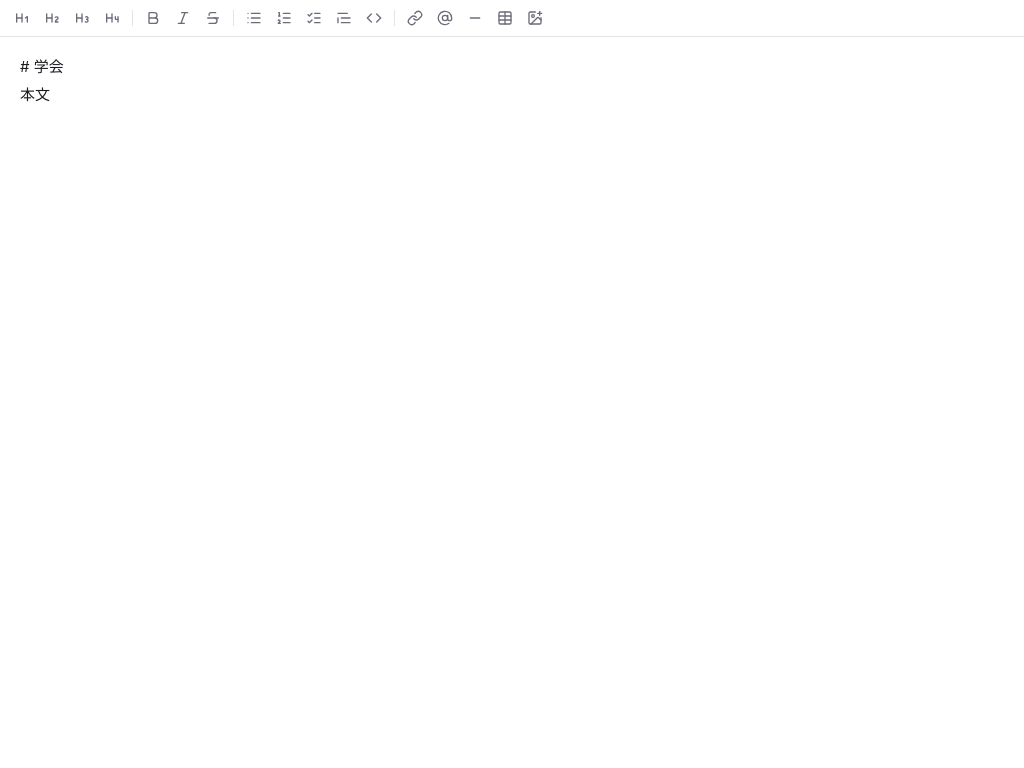
it: 「表」 in the canvas editor › opens a new 3 × 2 table; 「完了」 puts it after the caret's line (blank lines around it) as an edit like typing
Click the button named "表" at (505, 18), box [491,4,519,32]
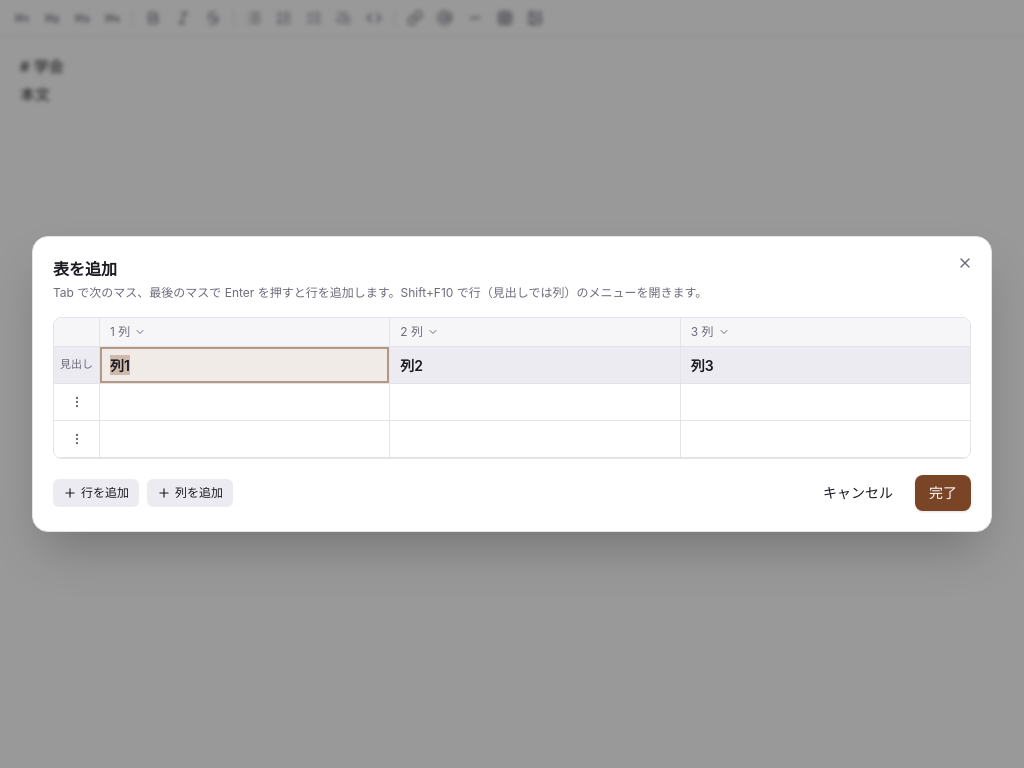
Expected: the field named "3 行目 3 列" is empty, [681,421,970,457]
Now the heading "表を追加" is shown, box [53,259,117,279]
Replace the text in the field named "見出し 1" with "名前" at (245, 365), box [100,347,389,383]
Replace the text in the field named "見出し 2" with "締切" at (535, 365), box [390,347,680,383]
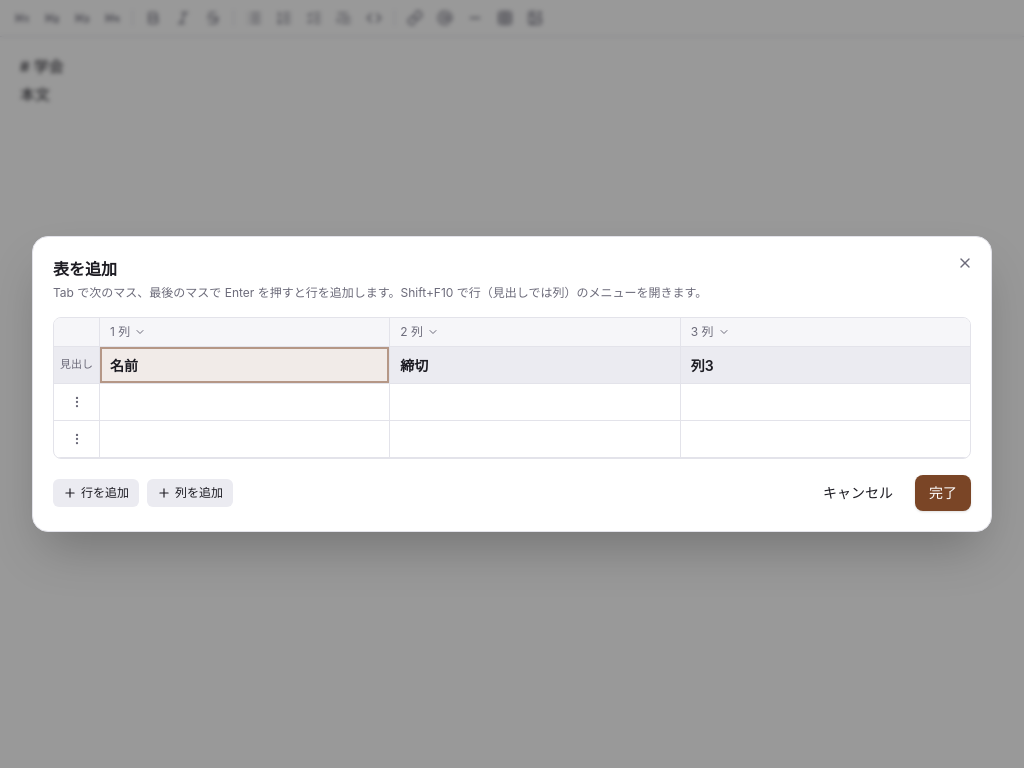
Type "予稿" into the field named "2 行目 1 列" at (245, 402), box [100,384,389,420]
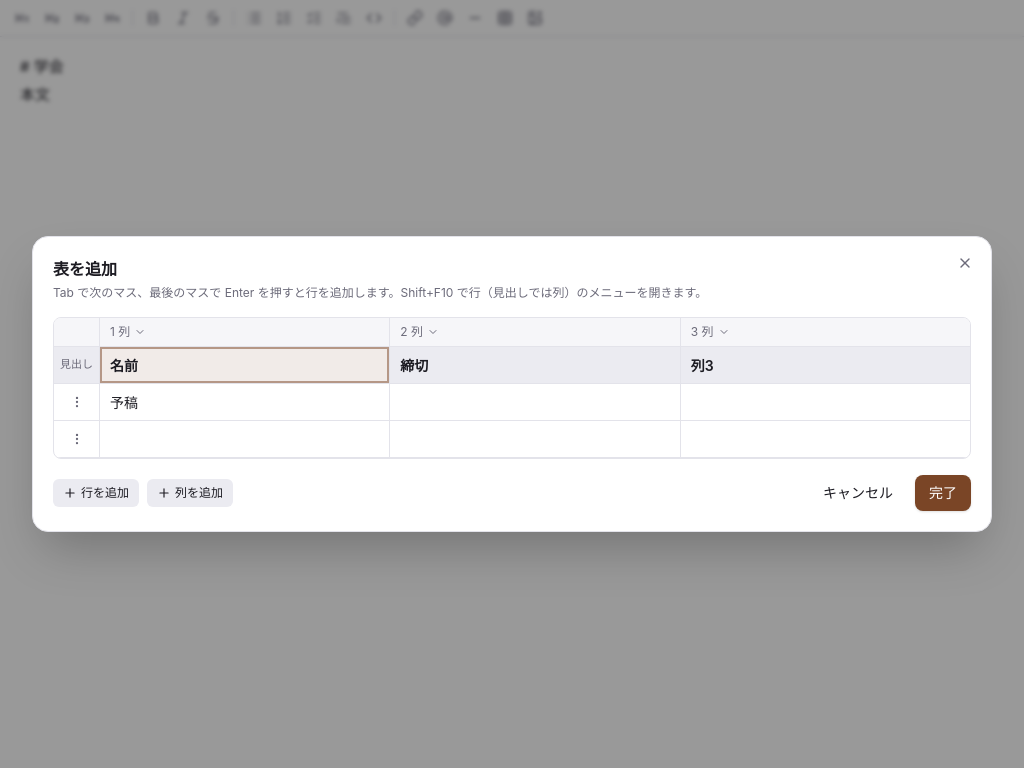
Type "10/3" into the field named "2 行目 2 列" at (535, 402), box [390,384,680,420]
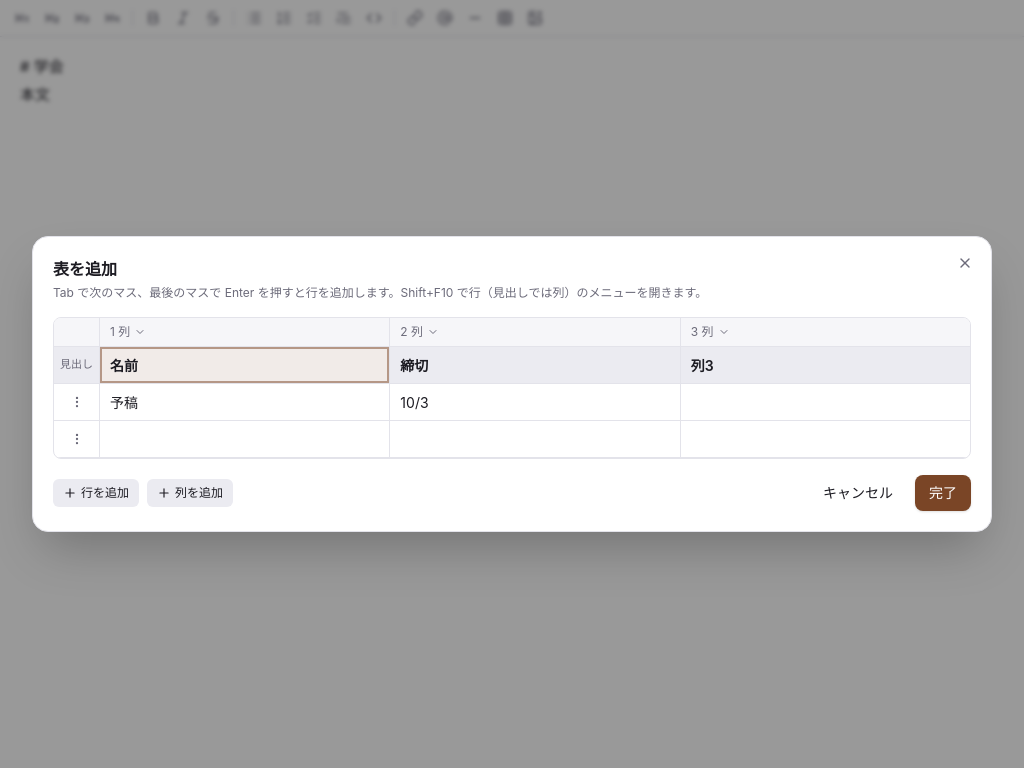
Type "a|b" into the field named "3 行目 1 列" at (245, 439), box [100,421,389,457]
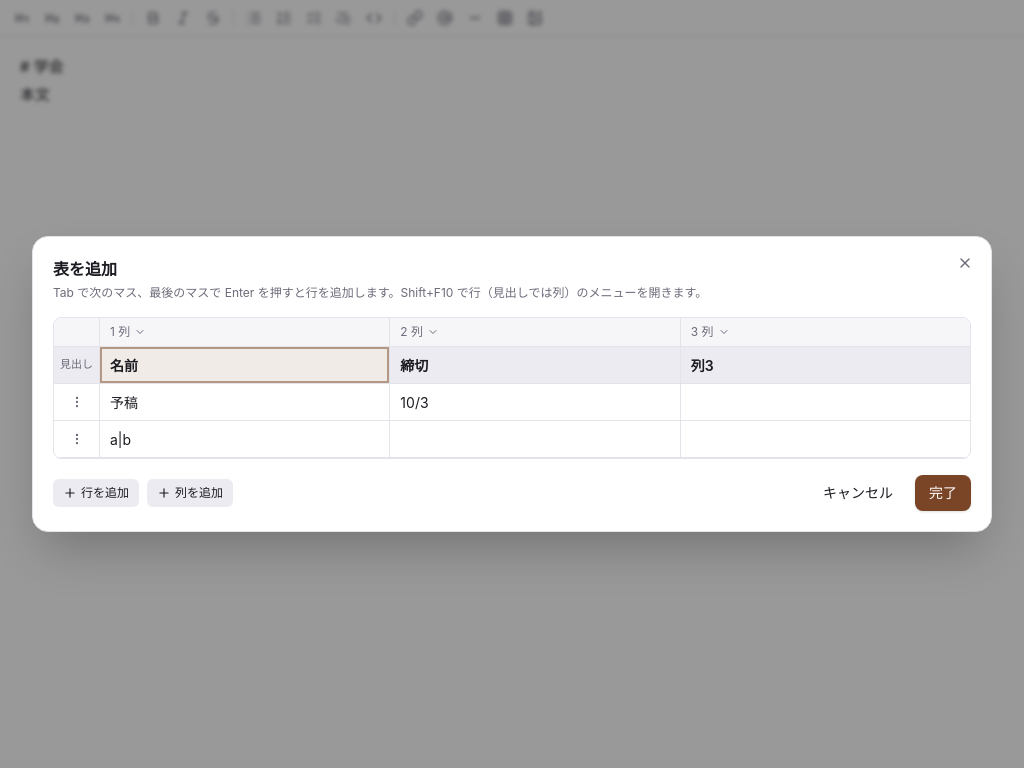
Click the button "完了" at (943, 493), box [915,475,971,511]
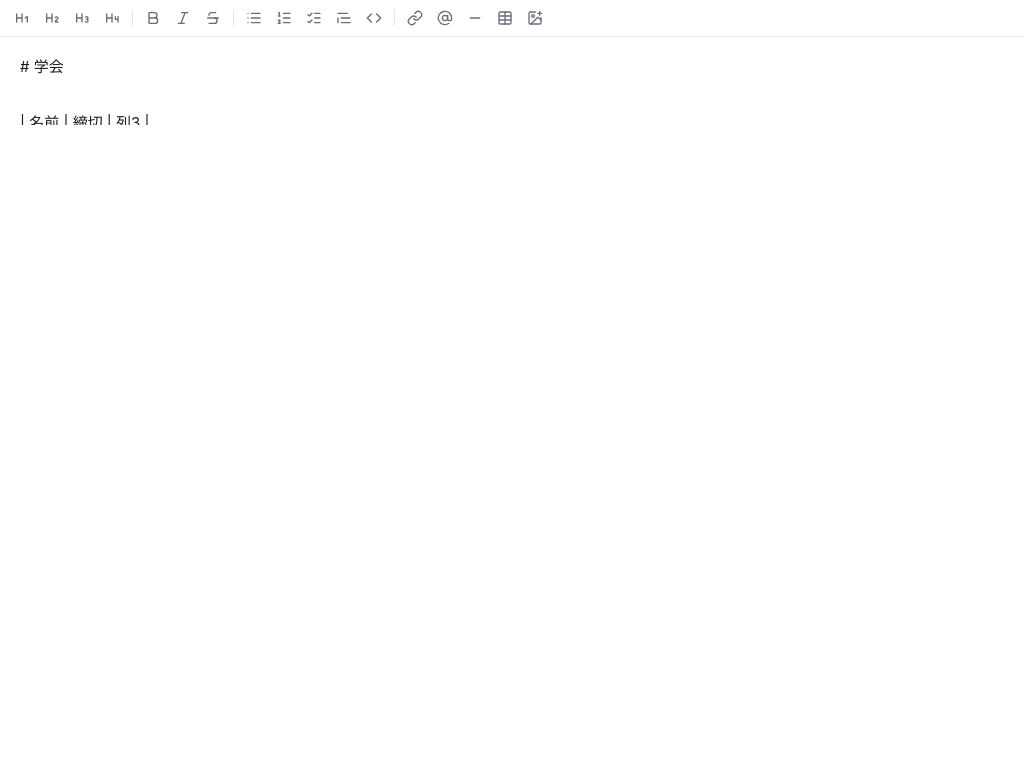
Now the dialog is gone
